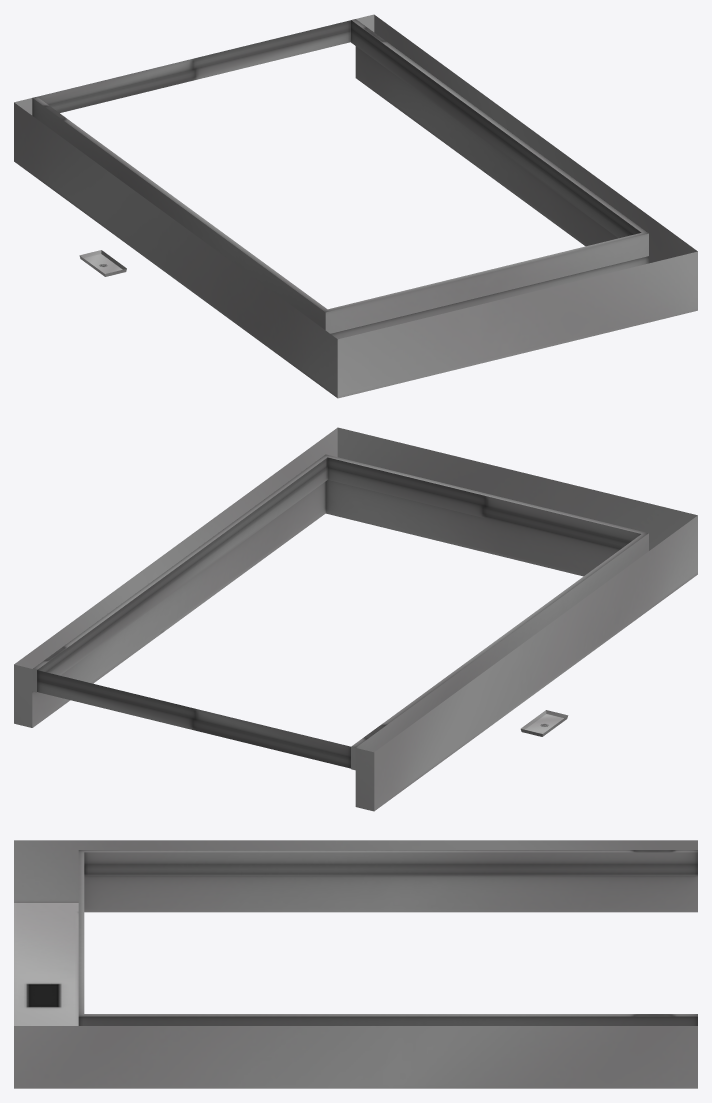
The model's file is aws_robomaker_hospital_elevator_01_portal_low.dae.
3 renders of one model, top to bottom at view 1: azimuth 30°, elevation 25°; view 2: azimuth 150°, elevation 25°; view 3: azimuth 270°, elevation 25°, orthographic. The views are drawn at different scales.
Parts seen in each view (by area): view 1: aws_robomaker_hospital_elevator_01_portal_low; view 2: aws_robomaker_hospital_elevator_01_portal_low; view 3: aws_robomaker_hospital_elevator_01_portal_low.
Boxes of the visible parts, <box> form: aws_robomaker_hospital_elevator_01_portal_low: <box>14,14,697,398</box>; aws_robomaker_hospital_elevator_01_portal_low: <box>14,427,697,811</box>; aws_robomaker_hospital_elevator_01_portal_low: <box>14,840,697,1088</box>.
Size of the model in its own units: 186 by 25.51 by 253.
Materials: 1 (1 with a texture image).
